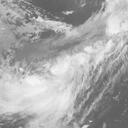cyclone: (34, 48, 91, 108)
